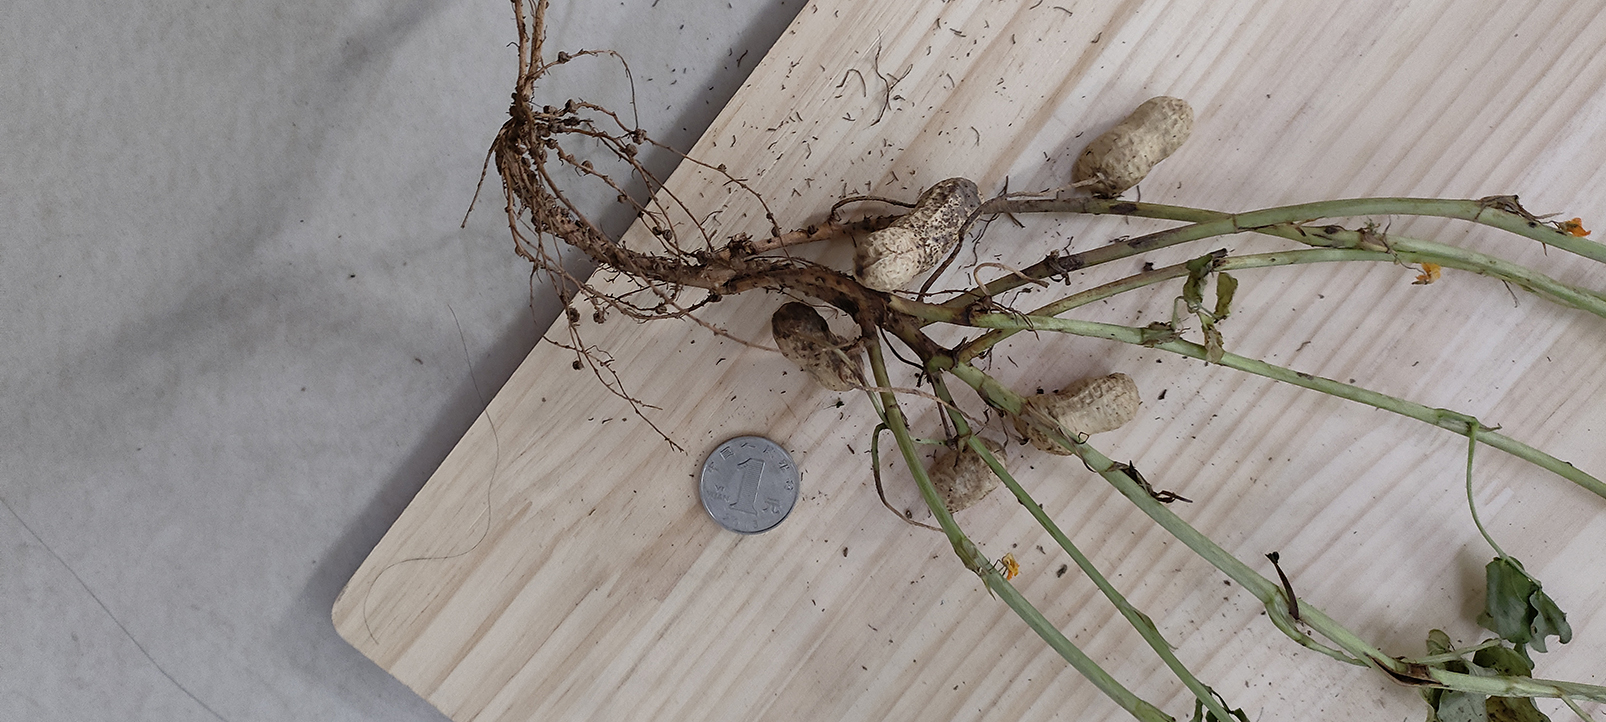h: (857, 178, 982, 289), (1073, 95, 1195, 198), (1016, 373, 1142, 455)
l: (770, 300, 863, 391), (926, 437, 1006, 511)
